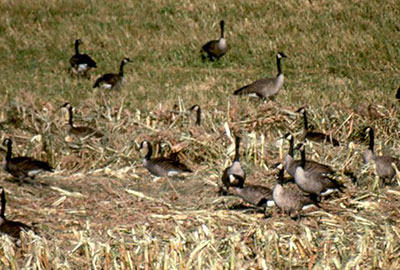goose: (232, 51, 293, 101), (1, 136, 55, 183), (134, 138, 193, 180), (355, 123, 400, 174), (294, 140, 335, 195), (270, 160, 304, 217), (60, 100, 105, 143), (293, 105, 341, 145), (226, 171, 273, 210), (198, 15, 235, 63), (224, 132, 250, 189), (94, 55, 134, 91), (66, 37, 98, 75), (278, 130, 295, 169), (187, 103, 207, 129)
